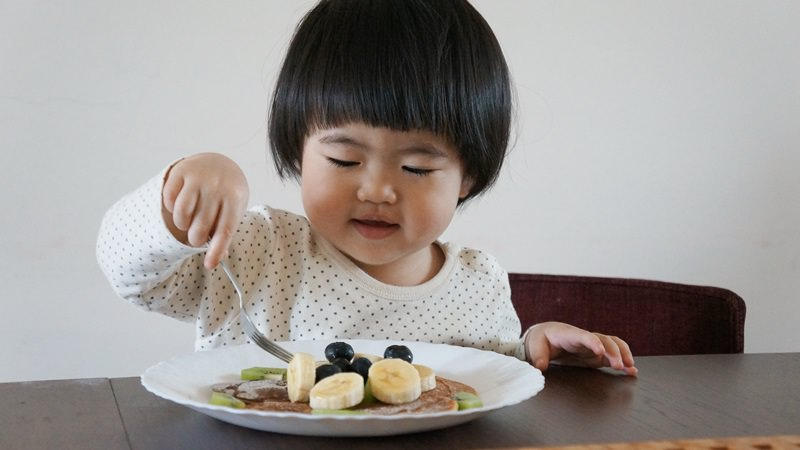face: (281, 100, 488, 270)
